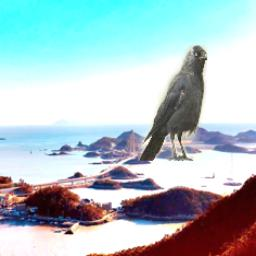Crow: (138, 45, 207, 161)
